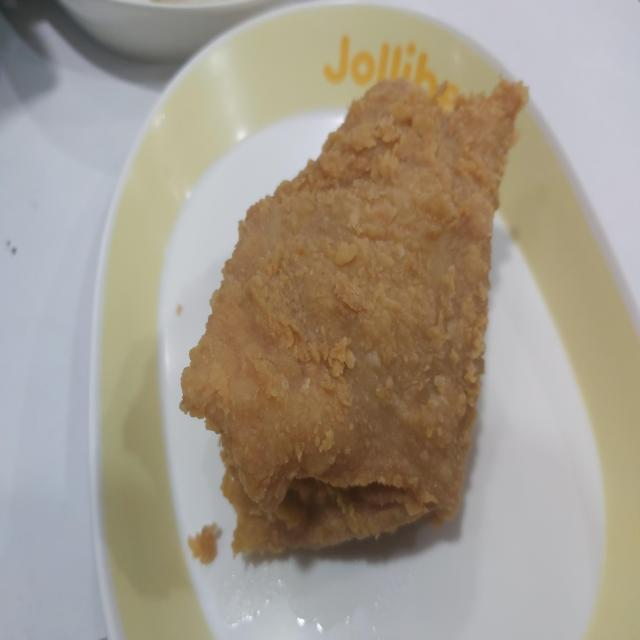Chicken -Fried Chicken-: (182, 61, 500, 538)
